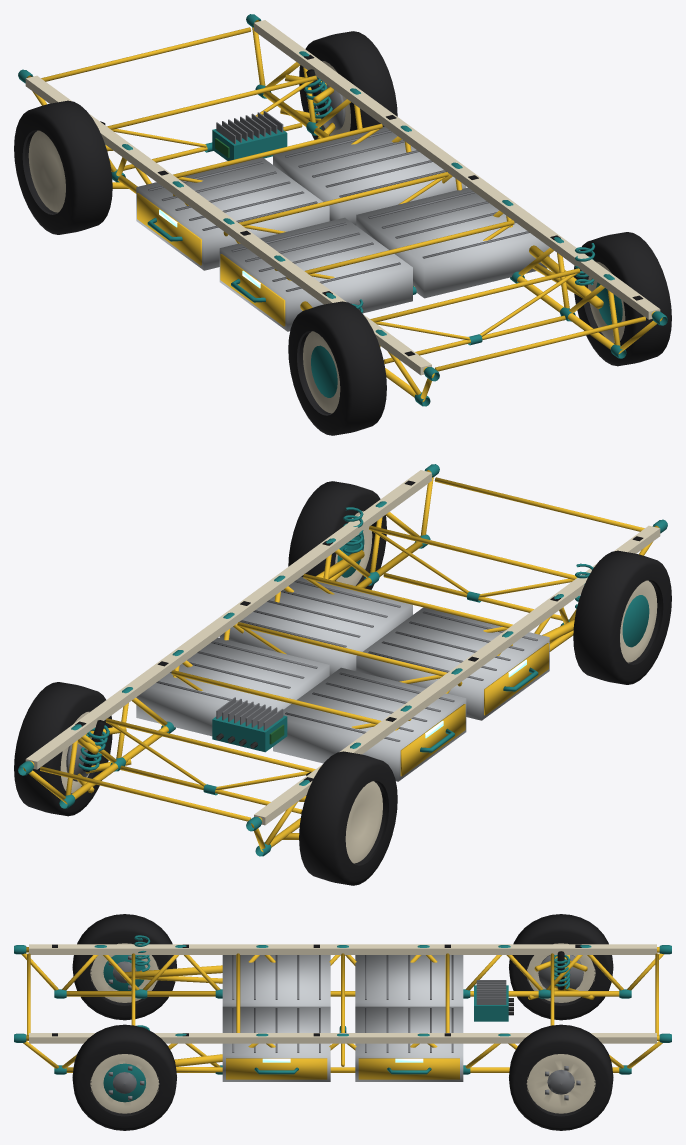
File: solana_l25.glb
The picture shows the model from 3 angles, top to bottom: view 1: azimuth 30°, elevation 25°; view 2: azimuth 150°, elevation 25°; view 3: azimuth 270°, elevation 25°; orthographic projection. The views are drawn at different scales.
Parts seen in each view (by area): view 1: cassette_1L, cassette_1R, cassette_0L, wheel_FL, wheel_BL, cassette_0R, mount_rail_R, wheel_BR, mount_rail_L, truss_R, wheel_FR, cross_5 (+11 smaller); view 2: cassette_0L, cassette_1L, wheel_FL, wheel_BL, cassette_0R, cassette_1R, mount_rail_R, wheel_FR, mount_rail_L, truss_R, wheel_BR, controller (+12 smaller); view 3: wheel_FR, wheel_BR, cassette_0R, cassette_1R, mount_rail_L, wheel_BL, wheel_FL, cassette_0L, cassette_1L, mount_rail_R, truss_L, truss_R (+11 smaller).
Boxes of the visible parts, x1,y1,x2,y2 form: cassette_1L: (219, 217, 412, 331); cassette_1R: (356, 187, 549, 298); cassette_0L: (136, 157, 329, 270); wheel_FL: (14, 100, 112, 234); wheel_BL: (288, 301, 386, 435); cassette_0R: (273, 126, 466, 225); mount_rail_R: (254, 20, 660, 319); wheel_BR: (573, 232, 671, 366); mount_rail_L: (25, 75, 431, 375); truss_R: (246, 14, 667, 358); wheel_FR: (299, 31, 397, 139); cross_5: (370, 268, 580, 363); cassette_0L: (273, 667, 466, 781); cassette_1L: (356, 607, 549, 720); wheel_FL: (299, 751, 397, 885); wheel_BL: (573, 550, 671, 684); cassette_0R: (136, 637, 329, 736); cassette_1R: (219, 576, 412, 675); mount_rail_R: (25, 470, 431, 769); wheel_FR: (14, 682, 112, 816); mount_rail_L: (254, 525, 660, 825); truss_R: (18, 464, 439, 808); wheel_BR: (288, 481, 386, 589); controller: (212, 697, 287, 752); wheel_FR: (509, 1024, 613, 1130); wheel_BR: (72, 1024, 176, 1130); cassette_0R: (355, 1006, 463, 1081); cassette_1R: (222, 1006, 330, 1081); mount_rail_L: (29, 944, 656, 954); wheel_BL: (72, 914, 176, 1020); wheel_FL: (509, 914, 613, 1020); cassette_0L: (355, 955, 463, 1006); cassette_1L: (222, 955, 330, 1006); mount_rail_R: (29, 1033, 656, 1043); truss_L: (14, 945, 671, 998); truss_R: (14, 1033, 671, 1074).
Size of the model in its own units: 1.7 by 0.6 by 3.77.
